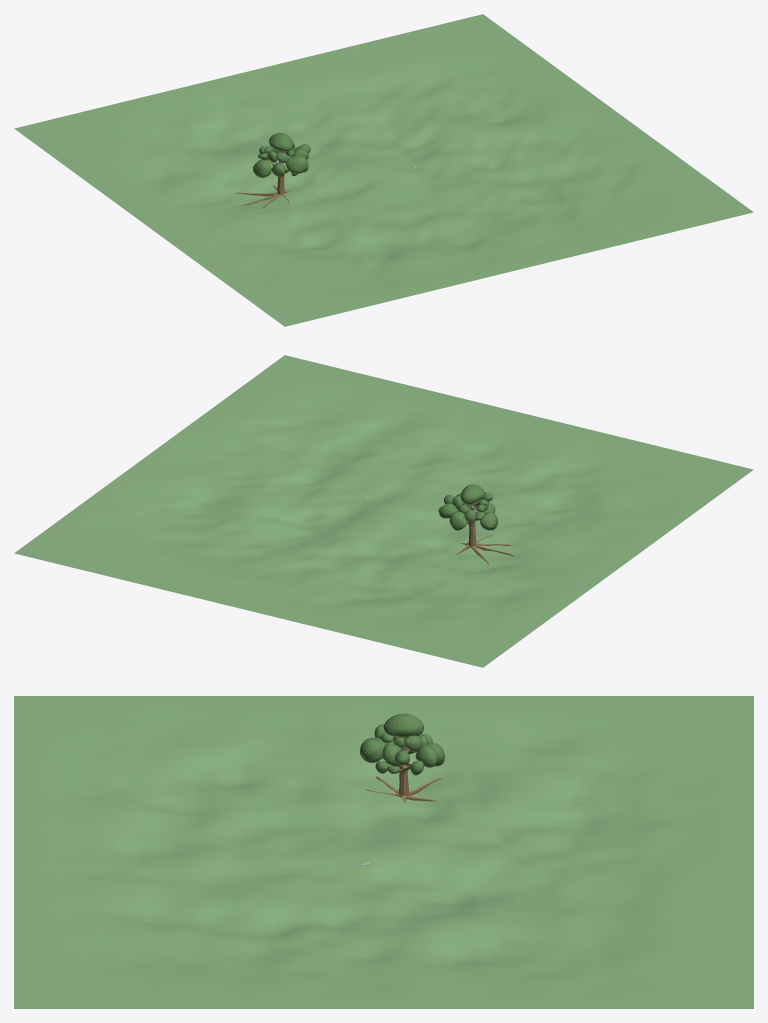
The model's file is tree_scene.glb.
The picture shows the model from 3 angles, top to bottom: view 1: azimuth 30°, elevation 25°; view 2: azimuth 150°, elevation 25°; view 3: azimuth 270°, elevation 25°; orthographic projection. The views are drawn at different scales.
Parts seen in each view (by area): view 1: Landscape.002; view 2: Landscape.002; view 3: Landscape.002, Icosphere, Icosphere.004.
Boxes of the visible parts, left/top/right/bottom form: Landscape.002: left=14, top=14, right=753, bottom=326; Landscape.002: left=14, top=355, right=753, bottom=667; Landscape.002: left=14, top=696, right=753, bottom=1008; Icosphere: left=383, top=713, right=423, bottom=737; Icosphere.004: left=360, top=737, right=386, bottom=762.
Size of the model in its own units: 169 by 21.89 by 169.
